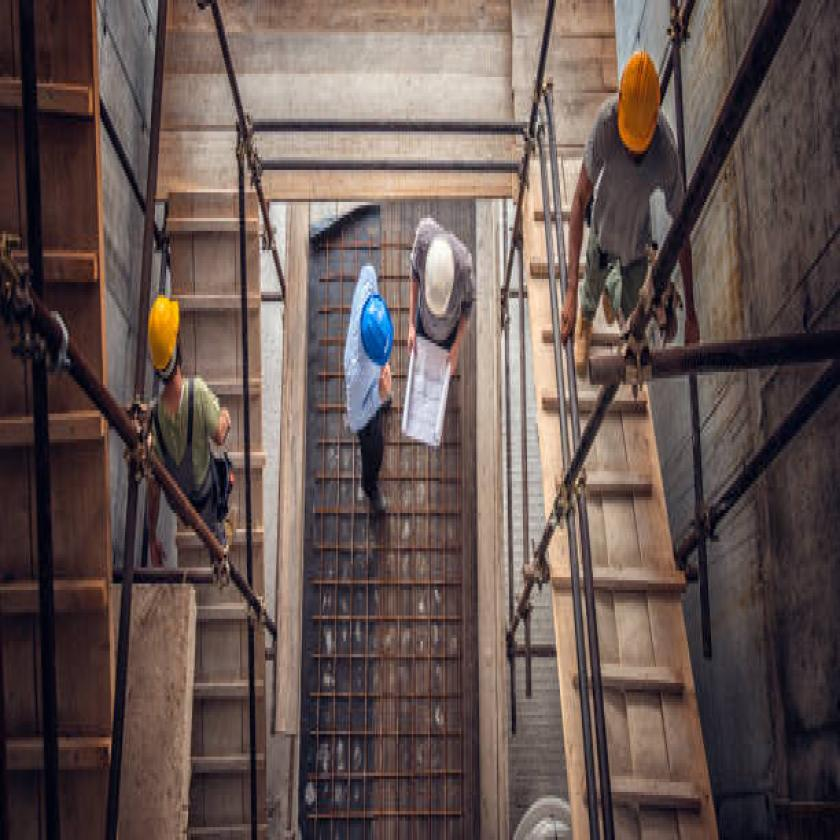Con_casco: (148, 269, 198, 416)
